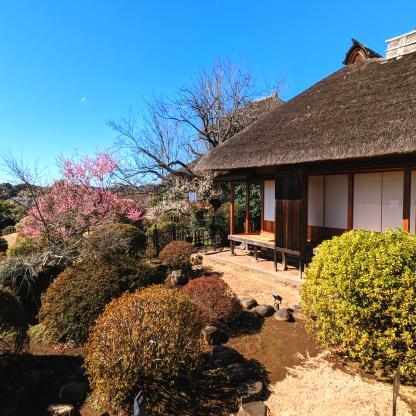Ume: (11, 142, 146, 238)
